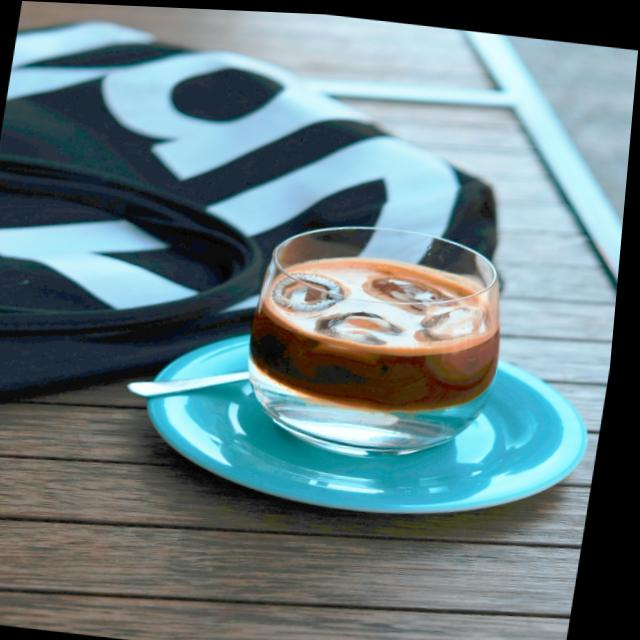drink: (254, 226, 503, 416)
